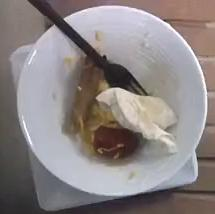fruit: (63, 57, 105, 133)
